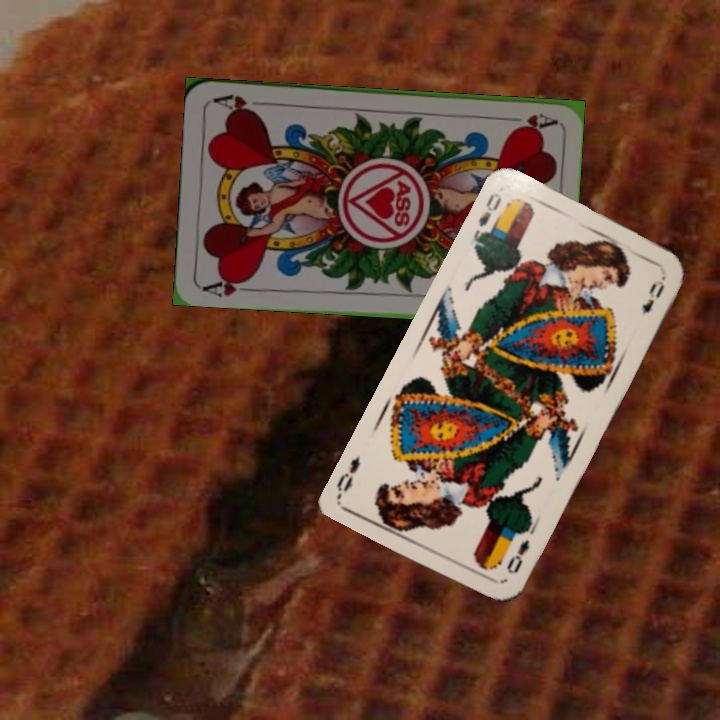EO: (470, 188, 504, 241), (502, 535, 532, 577)
HA: (198, 272, 257, 299), (499, 109, 558, 132)
